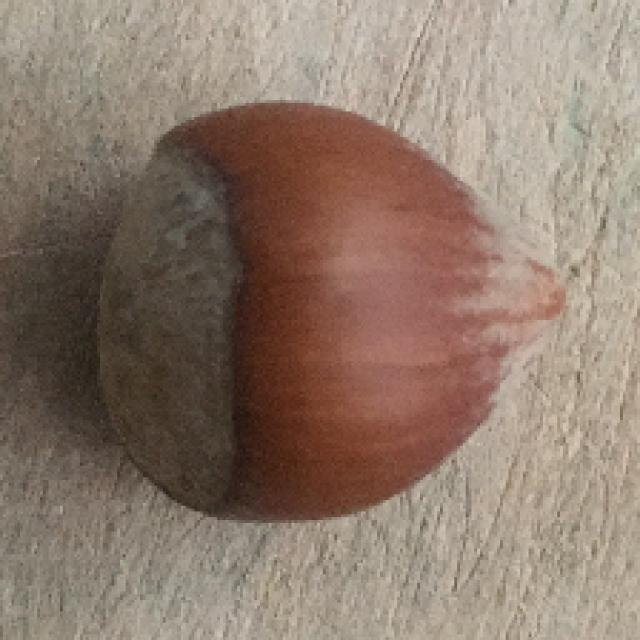qualityHazelnut: (95, 101, 564, 523)
